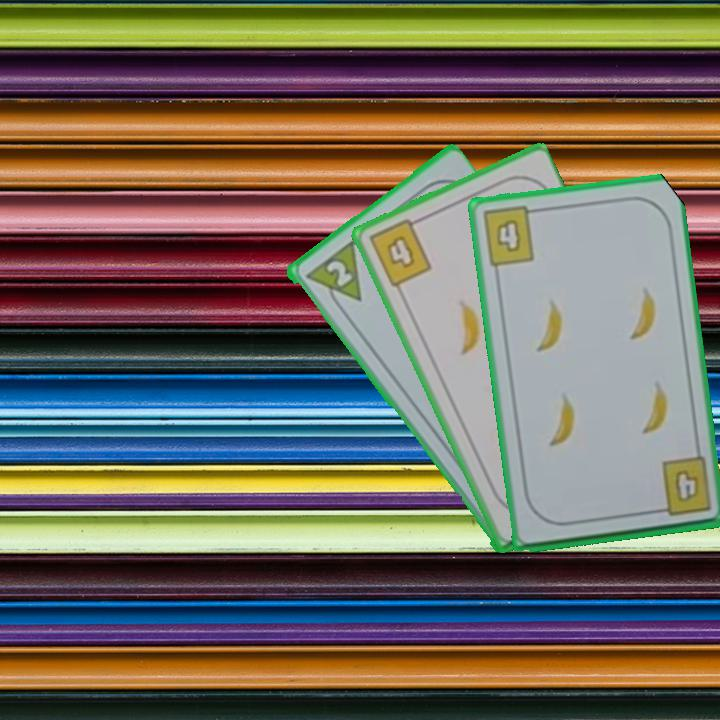2p: (321, 256, 355, 290)
4b: (365, 214, 435, 290), (649, 454, 715, 520), (478, 203, 542, 269)
